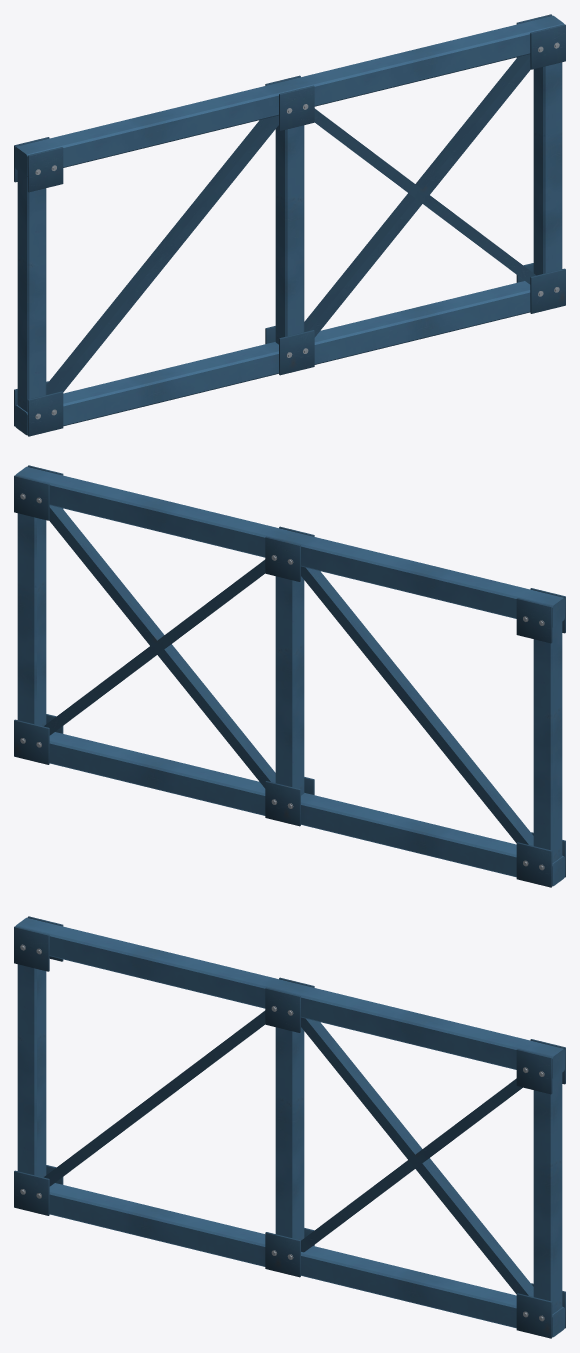
File: support_truss.glb
3 renders of one model, top to bottom at view 1: azimuth 30°, elevation 25°; view 2: azimuth 150°, elevation 25°; view 3: azimuth 330°, elevation 25°, orthographic.
Visible parts, largest first — view 1: Body.006; view 2: Body.006; view 3: Body.006.
Part boxes in pixels (<box>): Body.006: <box>14,14,565,436</box>; Body.006: <box>14,465,565,887</box>; Body.006: <box>14,916,565,1338</box>.
Bounding box in the file's own units: 2 × 0.997 × 0.1072.
3 materials, 3 textured.
